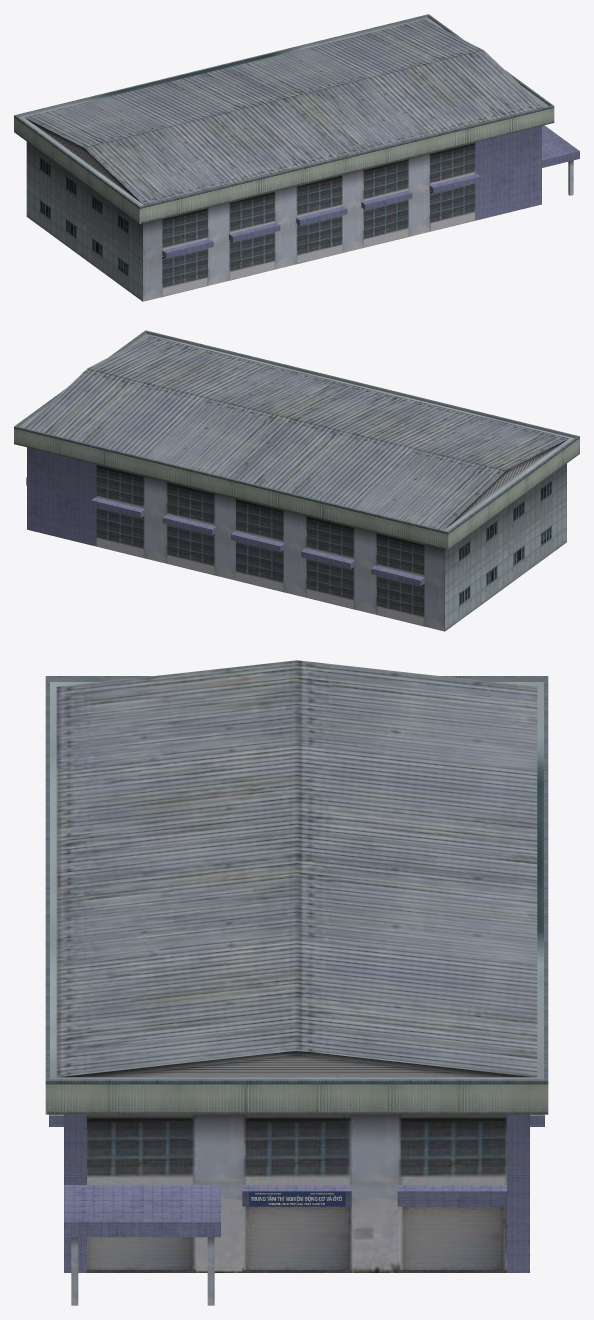
The picture shows the model from 3 angles, top to bottom: view 1: azimuth 30°, elevation 25°; view 2: azimuth 150°, elevation 25°; view 3: azimuth 270°, elevation 25°; orthographic projection. The views are drawn at different scales.
Visible parts, largest first — view 1: 5c77addbbdd69e54386ebe96.001; view 2: 5c77addbbdd69e54386ebe96.001; view 3: 5c77addbbdd69e54386ebe96.001.
Boxes of the visible parts, x1=… form: 5c77addbbdd69e54386ebe96.001: x1=14, y1=14, x2=579, y2=301; 5c77addbbdd69e54386ebe96.001: x1=14, y1=330, x2=579, y2=631; 5c77addbbdd69e54386ebe96.001: x1=45, y1=660, x2=548, y2=1305.
Bounding box in the file's own units: 44.83 × 10.73 × 21.92.
Materials: 1 (1 with a texture image).
